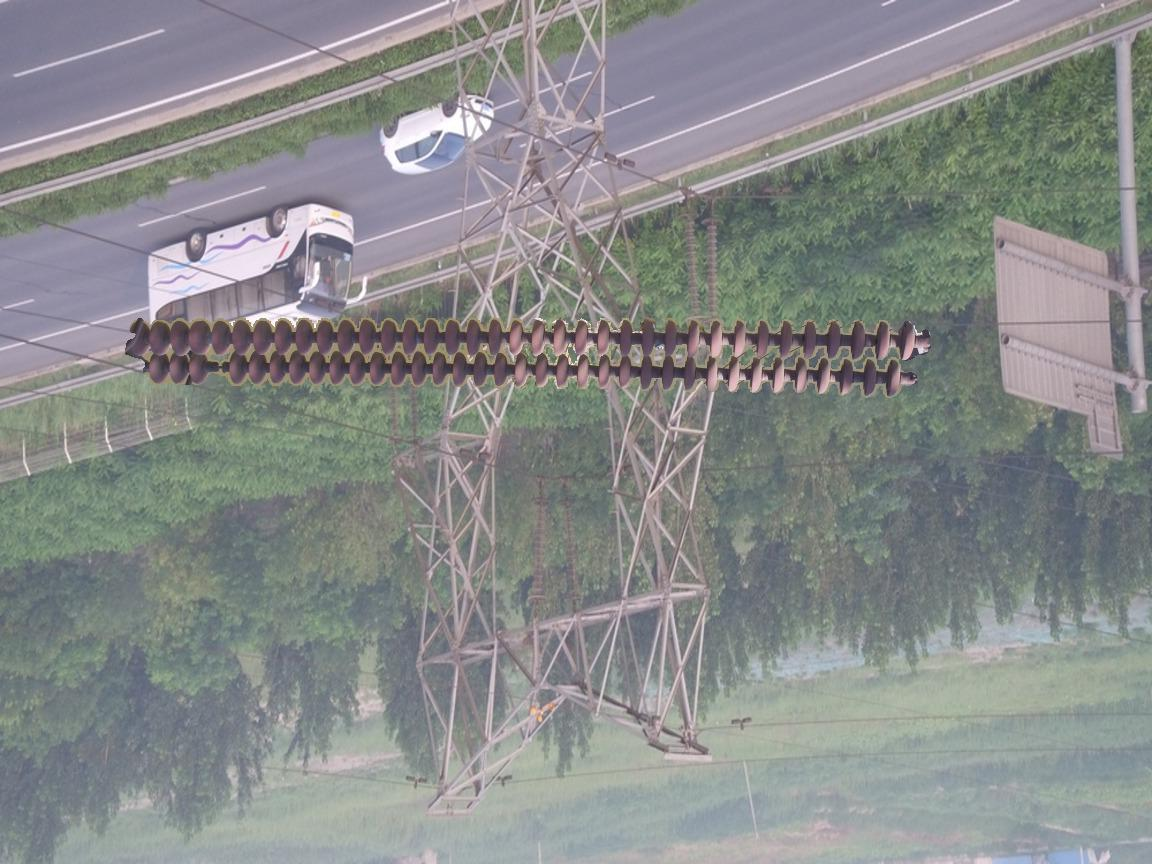insulator: (124, 313, 922, 401), (527, 498, 550, 601), (683, 215, 702, 314), (705, 221, 722, 314)
insulator_stringdrop: (187, 350, 248, 389)
